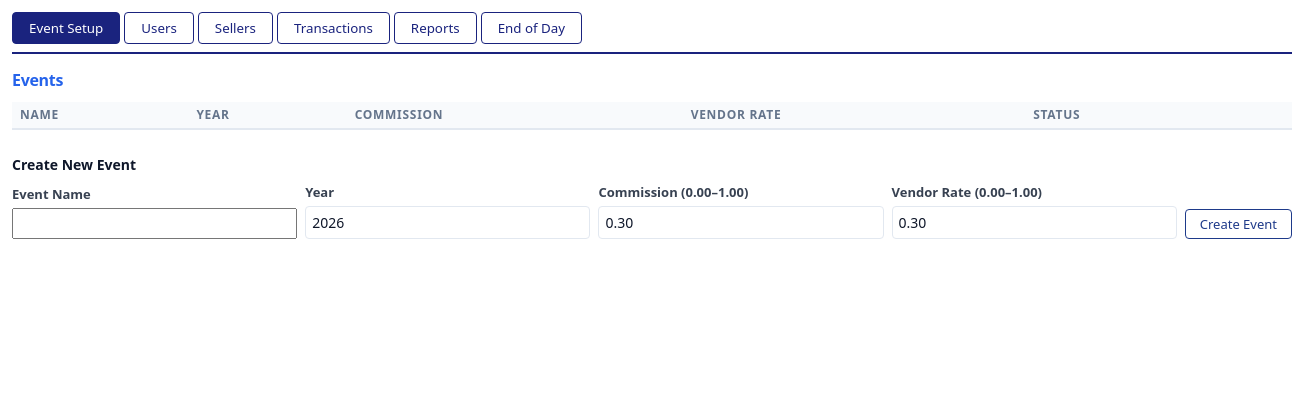
Test: AdminPage navigation › navigates to Reports section
Click the button "Reports": (435, 28) [394,12,477,44]
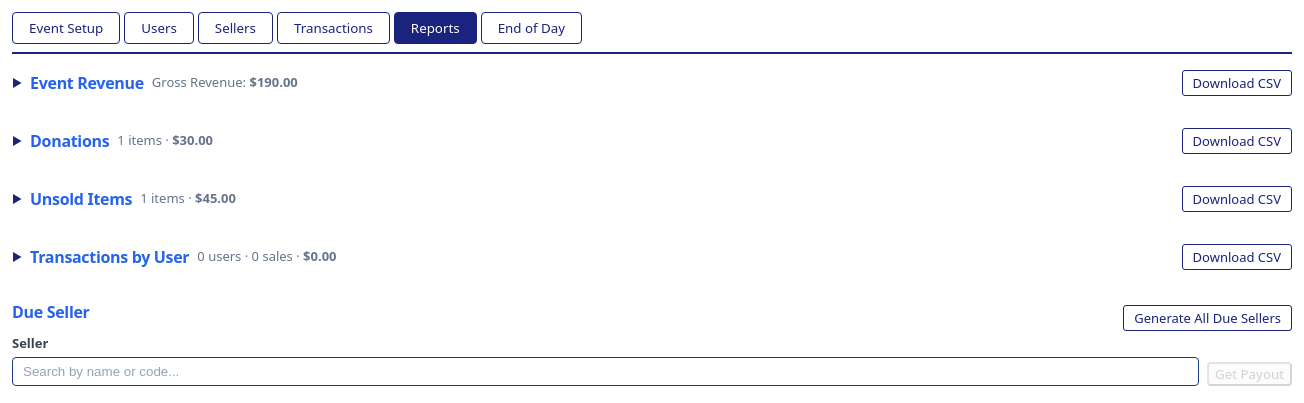
Check: the text "Gross Revenue: $190.00" is shown, box [152,73,298,93]
